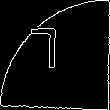L_S: (39, 29, 71, 81)
